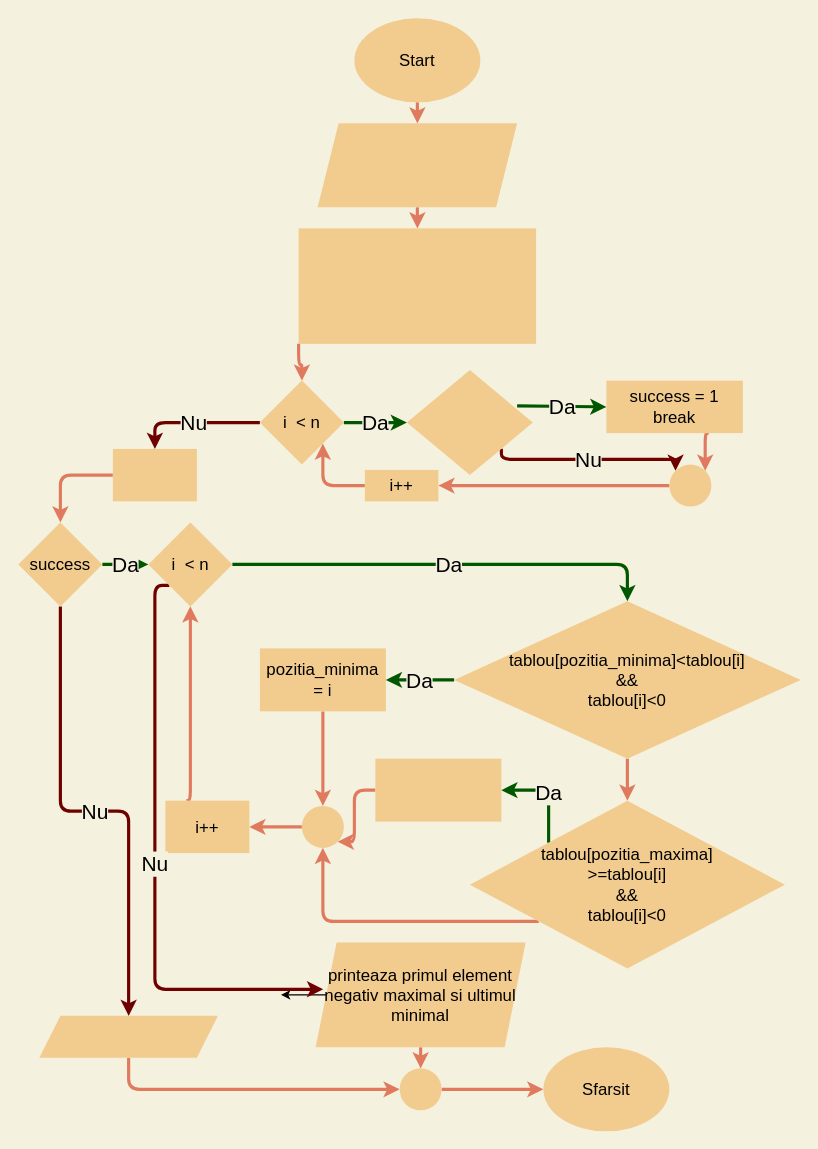
The diagram is 818 pixels wide and 1149 high, and some of its shapes have lost their labels. Each missing label, with the centre of its shape:
"Citește n Citește tabloul ”tablou”" goes at pixel 417 165.
"i = 0 success = 0 pozitia_maxima = 0 pozitia_minima=0" goes at pixel 417 285.
"i=0" goes at pixel 154 474.
"Nu exista elemente negative" goes at pixel 128 1036.
"pozitia_maxima = i" goes at pixel 438 789.
"tablou[i] < 0" goes at pixel 469 422.
